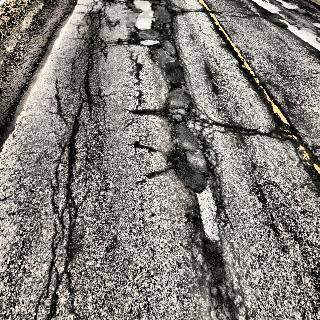crack: (123, 1, 261, 318), (45, 4, 97, 318)
